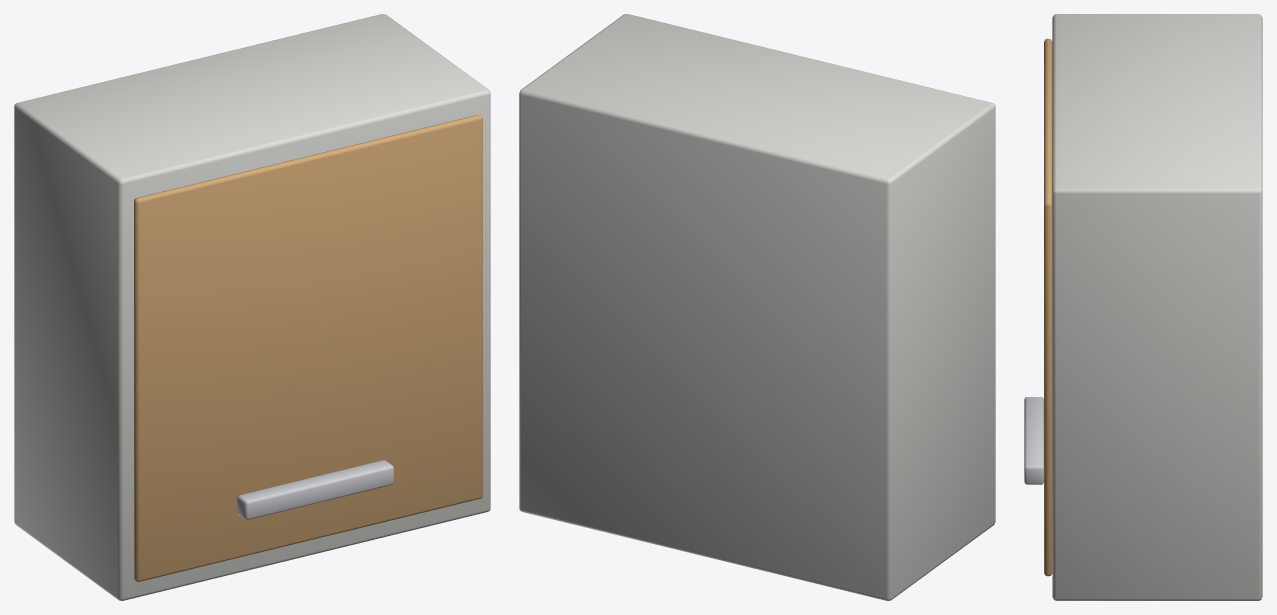
Rendered from Kitchen_Wall_Cabinet_60.glb.
3 views of the same model, side by side, from view 1: azimuth 30°, elevation 25°; view 2: azimuth 150°, elevation 25°; view 3: azimuth 270°, elevation 25° (orthographic). The views are drawn at different scales.
Parts seen in each view (by area): view 1: Kitchen_Wall_Cabinet_60; view 2: Kitchen_Wall_Cabinet_60; view 3: Kitchen_Wall_Cabinet_60.
Part boxes in pixels (x1,y1,x2,y2): Kitchen_Wall_Cabinet_60: [14, 14, 490, 600]; Kitchen_Wall_Cabinet_60: [519, 14, 995, 600]; Kitchen_Wall_Cabinet_60: [1024, 14, 1262, 600].
Bounding box in the file's own units: 0.6 × 0.65 × 0.34.
